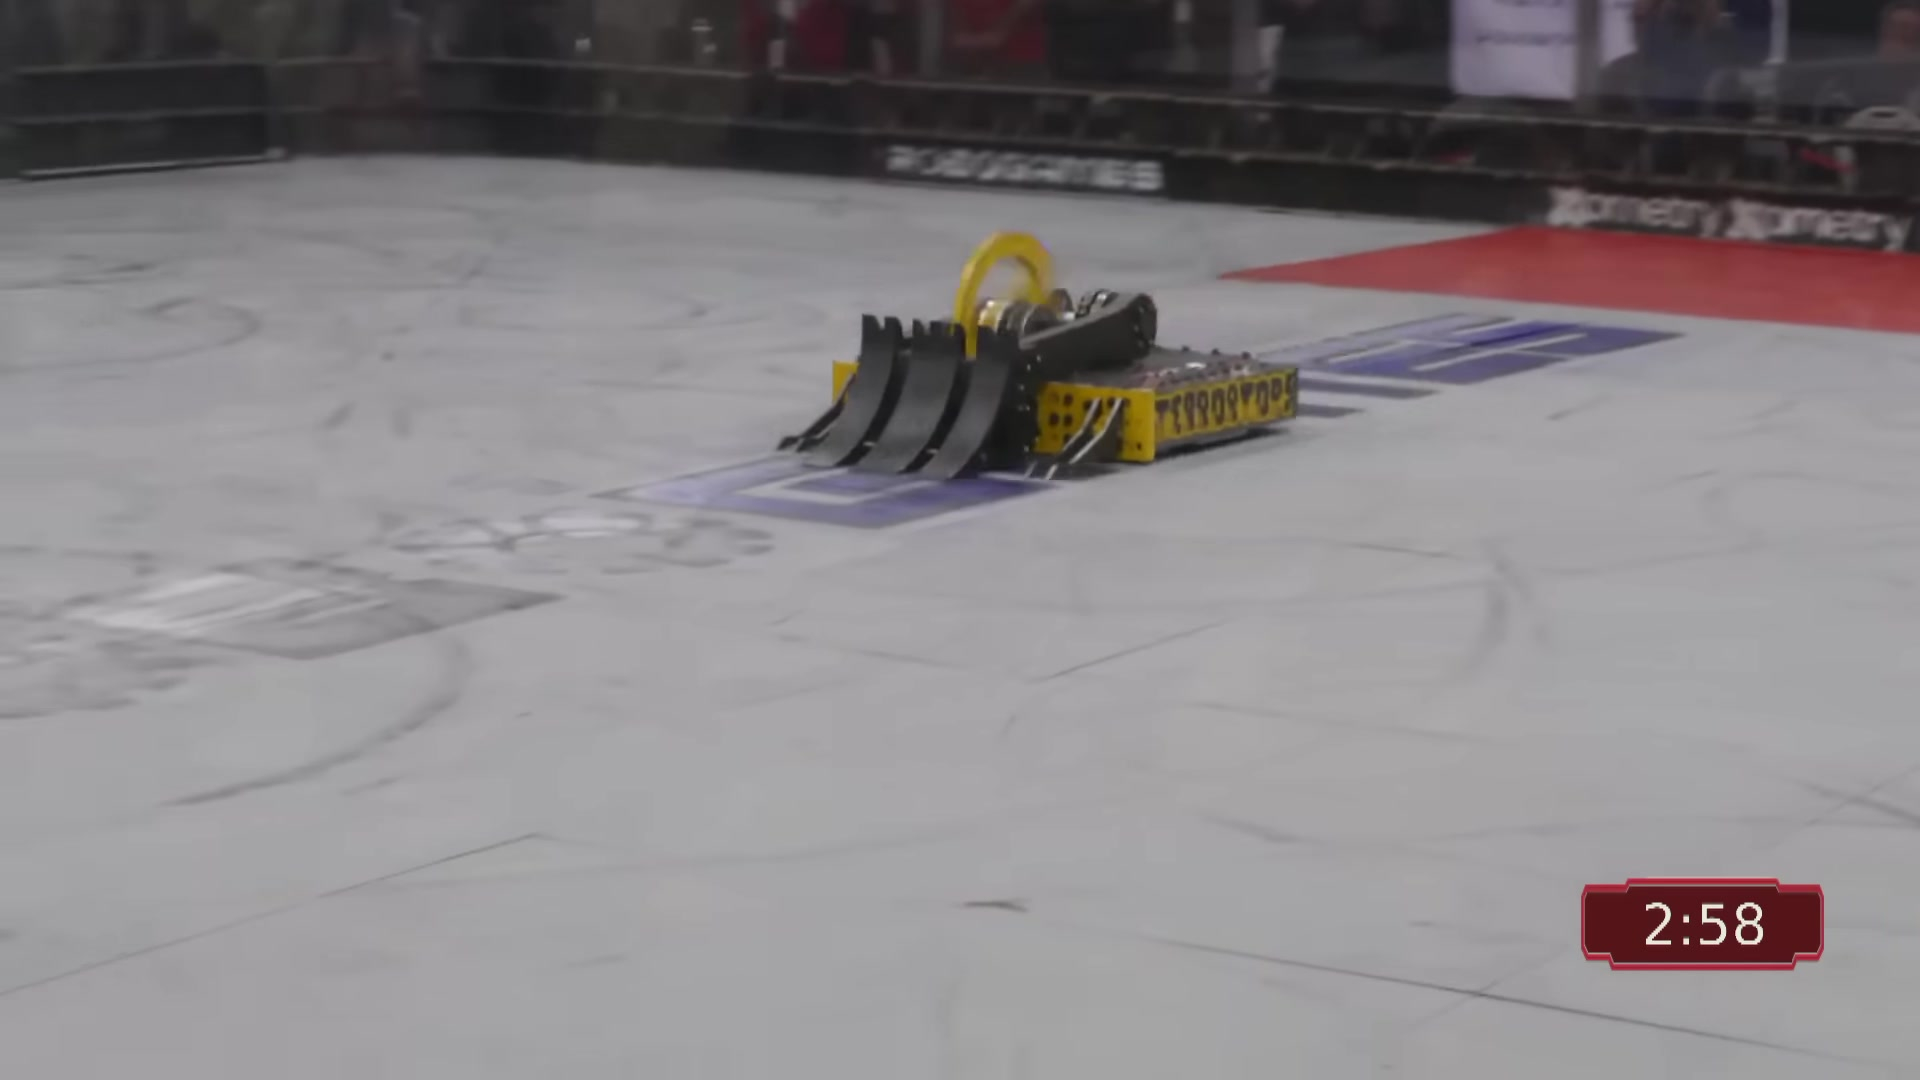combatbot: (777, 232, 1302, 509)
